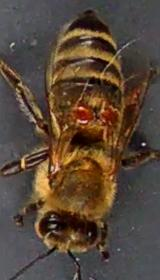varroa_mite: (96, 103, 122, 130), (72, 100, 96, 126)
